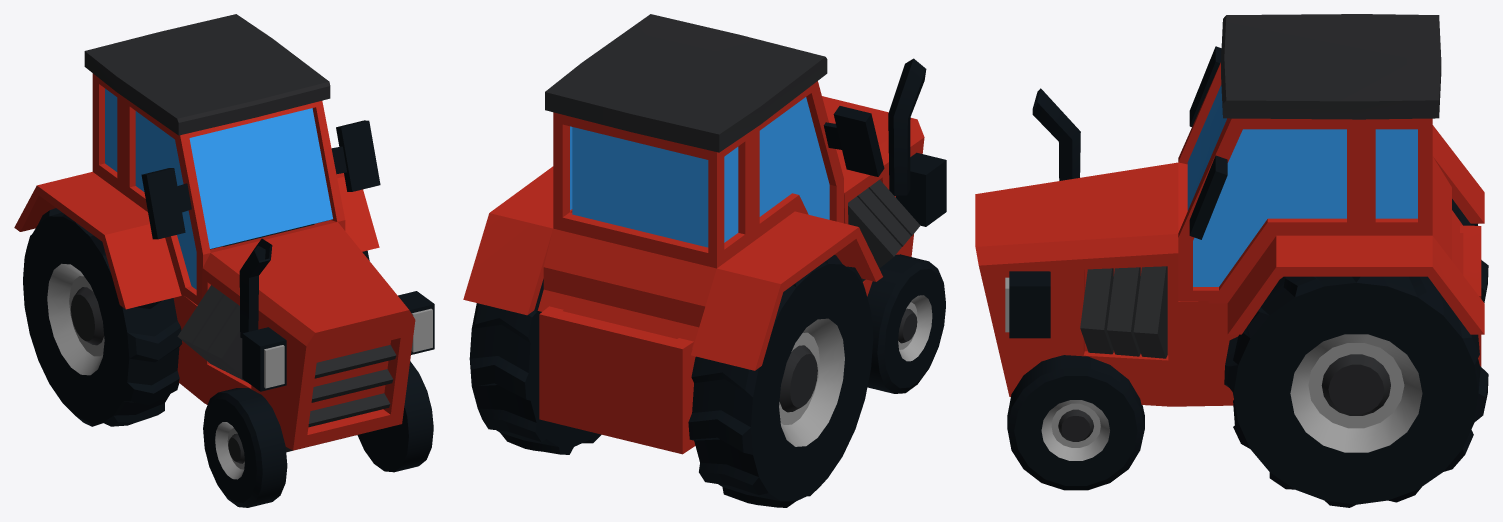
File: Tractor.fbx
3 views of the same model, side by side, from view 1: azimuth 30°, elevation 25°; view 2: azimuth 150°, elevation 25°; view 3: azimuth 270°, elevation 25° (orthographic). The views are drawn at different scales.
Parts seen in each view (by area): view 1: Tractor; view 2: Tractor; view 3: Tractor.
Part boxes in pixels (<box>): Tractor: <box>14,14,434,507</box>; Tractor: <box>463,14,946,507</box>; Tractor: <box>975,14,1488,507</box>.
Size of the model in its own units: 66.66 by 84.21 by 102.
